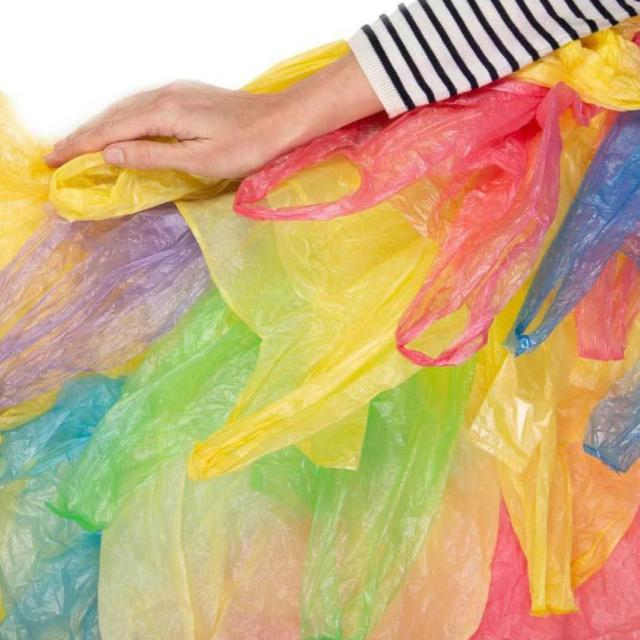Single-layer Plastic: (234, 79, 596, 366), (178, 194, 438, 479), (249, 364, 473, 639), (465, 289, 638, 614), (53, 290, 259, 529), (0, 205, 210, 409), (99, 458, 310, 640), (504, 110, 640, 355), (0, 375, 124, 639), (365, 429, 500, 639), (471, 507, 640, 640), (99, 458, 195, 640), (49, 152, 230, 221), (511, 16, 640, 111), (0, 92, 54, 269), (574, 251, 639, 361)
